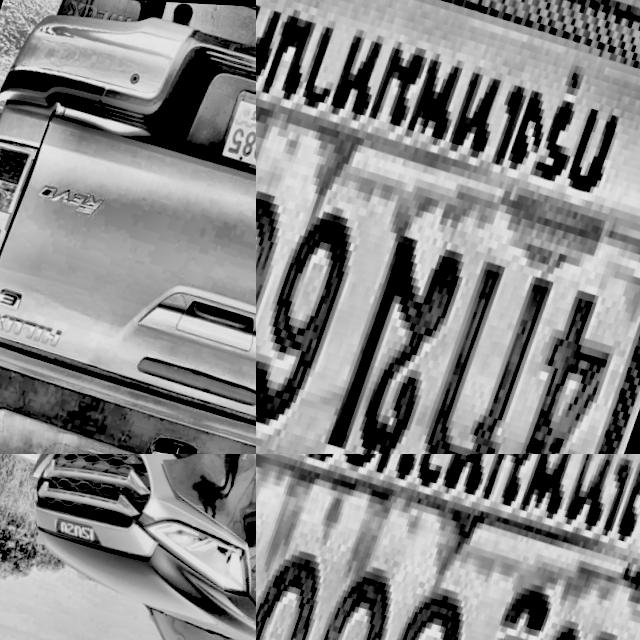license-plate: (256, 0, 640, 454), (256, 454, 640, 640), (214, 78, 256, 185)
